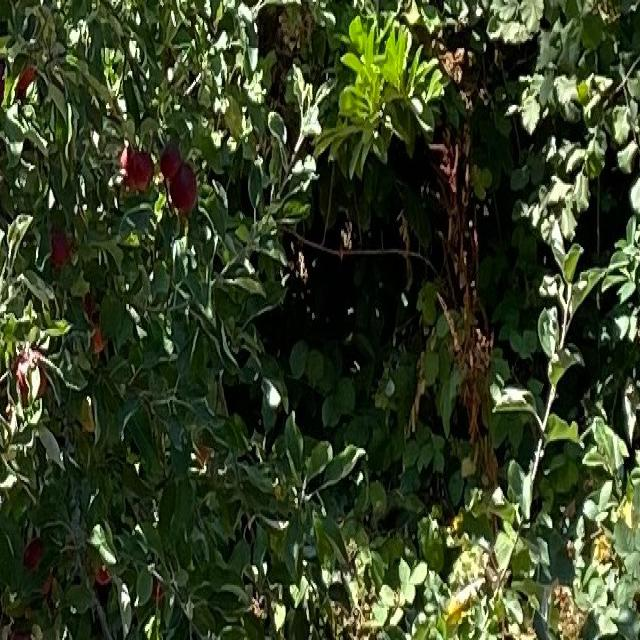Apples: (11, 354, 45, 404), (23, 538, 52, 596), (120, 146, 152, 190), (171, 165, 198, 215), (83, 302, 108, 354), (17, 66, 43, 110), (48, 226, 71, 265), (160, 148, 180, 180)
